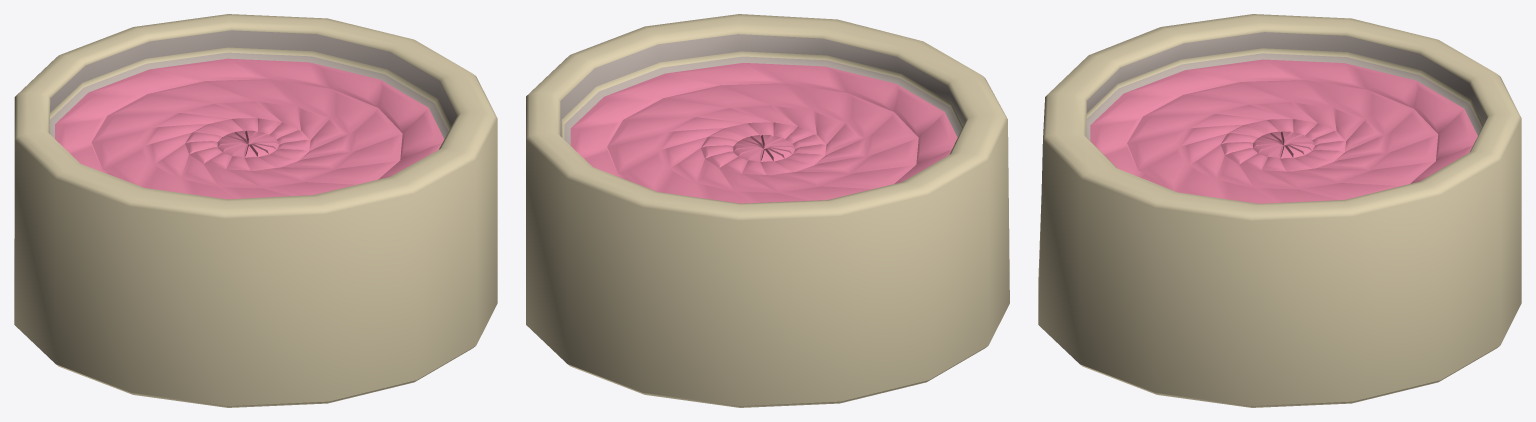
File: powder_1.fbx
3 renders of one model, left to right at view 1: azimuth 30°, elevation 25°; view 2: azimuth 150°, elevation 25°; view 3: azimuth 270°, elevation 25°, orthographic.
Parts seen in each view (by area): view 1: powder 1; view 2: powder 1; view 3: powder 1.
Part boxes in pixels (left/top/right/bottom): powder 1: left=14, top=14, right=497, bottom=407; powder 1: left=526, top=14, right=1009, bottom=407; powder 1: left=1038, top=14, right=1521, bottom=407.
Size of the model in its own units: 3.02 by 1.33 by 3.
